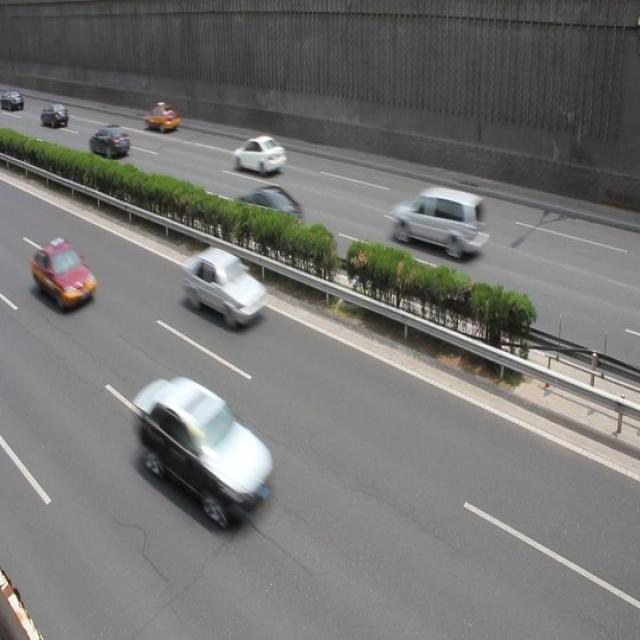car: (134, 375, 281, 534), (182, 246, 267, 330), (32, 237, 96, 313), (232, 182, 306, 240), (233, 135, 286, 176), (89, 126, 130, 161), (145, 102, 180, 134)
truck: (392, 184, 488, 258)
